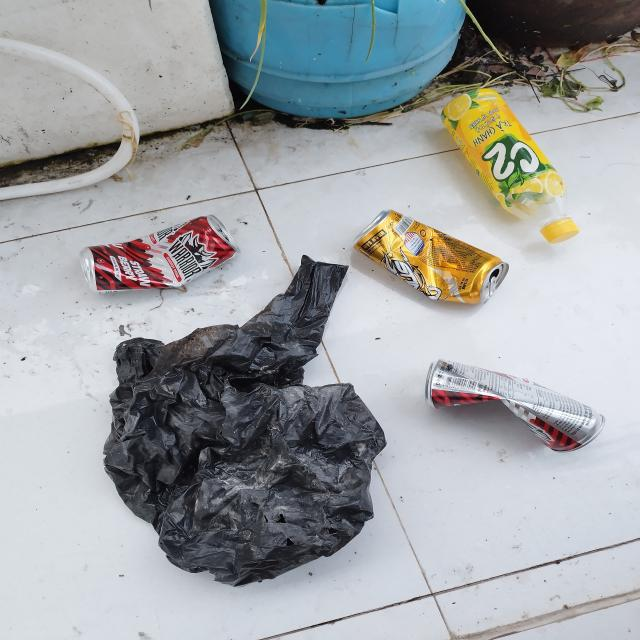bag: (100, 252, 393, 589)
bottle: (438, 90, 580, 246)
can: (424, 359, 606, 452), (350, 210, 511, 304), (80, 214, 240, 294)
